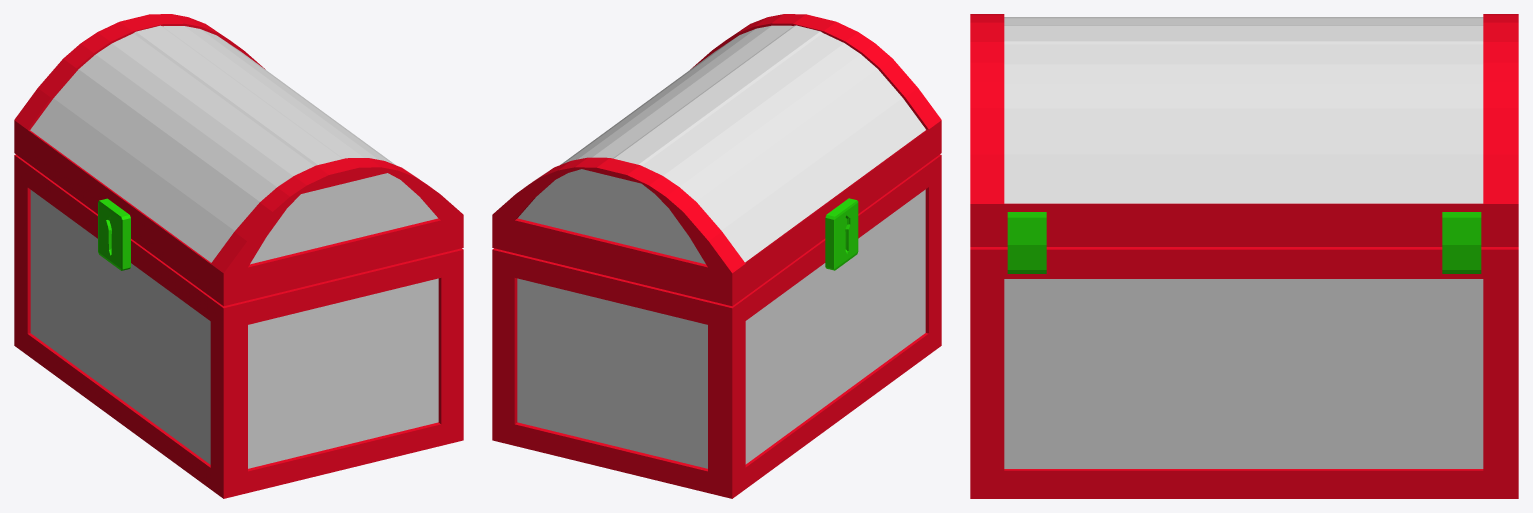
File: Chest.fbx
3 views of the same model, side by side, from view 1: azimuth 30°, elevation 25°; view 2: azimuth 150°, elevation 25°; view 3: azimuth 270°, elevation 25° (orthographic). The views are drawn at different scales.
Visible parts, largest first — view 1: Chest, Lid.001, Chest.001, Lid, Schloss; view 2: Chest, Lid.001, Chest.001, Lid, Schloss; view 3: Chest, Lid.001, Chest.001, Lid, Scharnier.
Part boxes in pixels (x1,y1,x2,y2): Chest: (30, 190, 438, 468); Lid.001: (30, 25, 437, 264); Chest.001: (14, 154, 463, 498); Lid: (14, 14, 463, 306); Schloss: (98, 198, 130, 270); Chest: (517, 189, 925, 468); Lid.001: (518, 25, 925, 264); Chest.001: (492, 154, 941, 498); Lid: (492, 14, 941, 306); Schloss: (825, 198, 858, 270); Chest: (1004, 279, 1483, 468); Lid.001: (1004, 17, 1483, 203); Chest.001: (970, 247, 1518, 498); Lid: (970, 14, 1518, 246); Scharnier: (1007, 212, 1481, 273).
Bounding box in the file's own units: 203 × 230 × 293.
